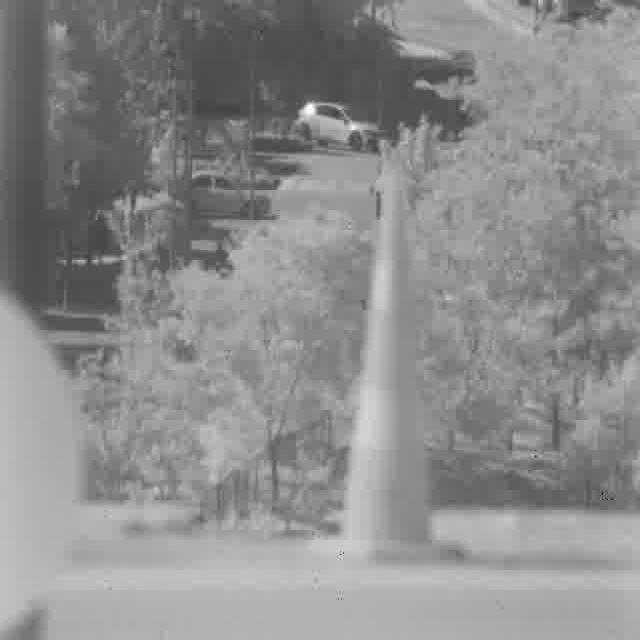Car: (295, 98, 384, 156)
